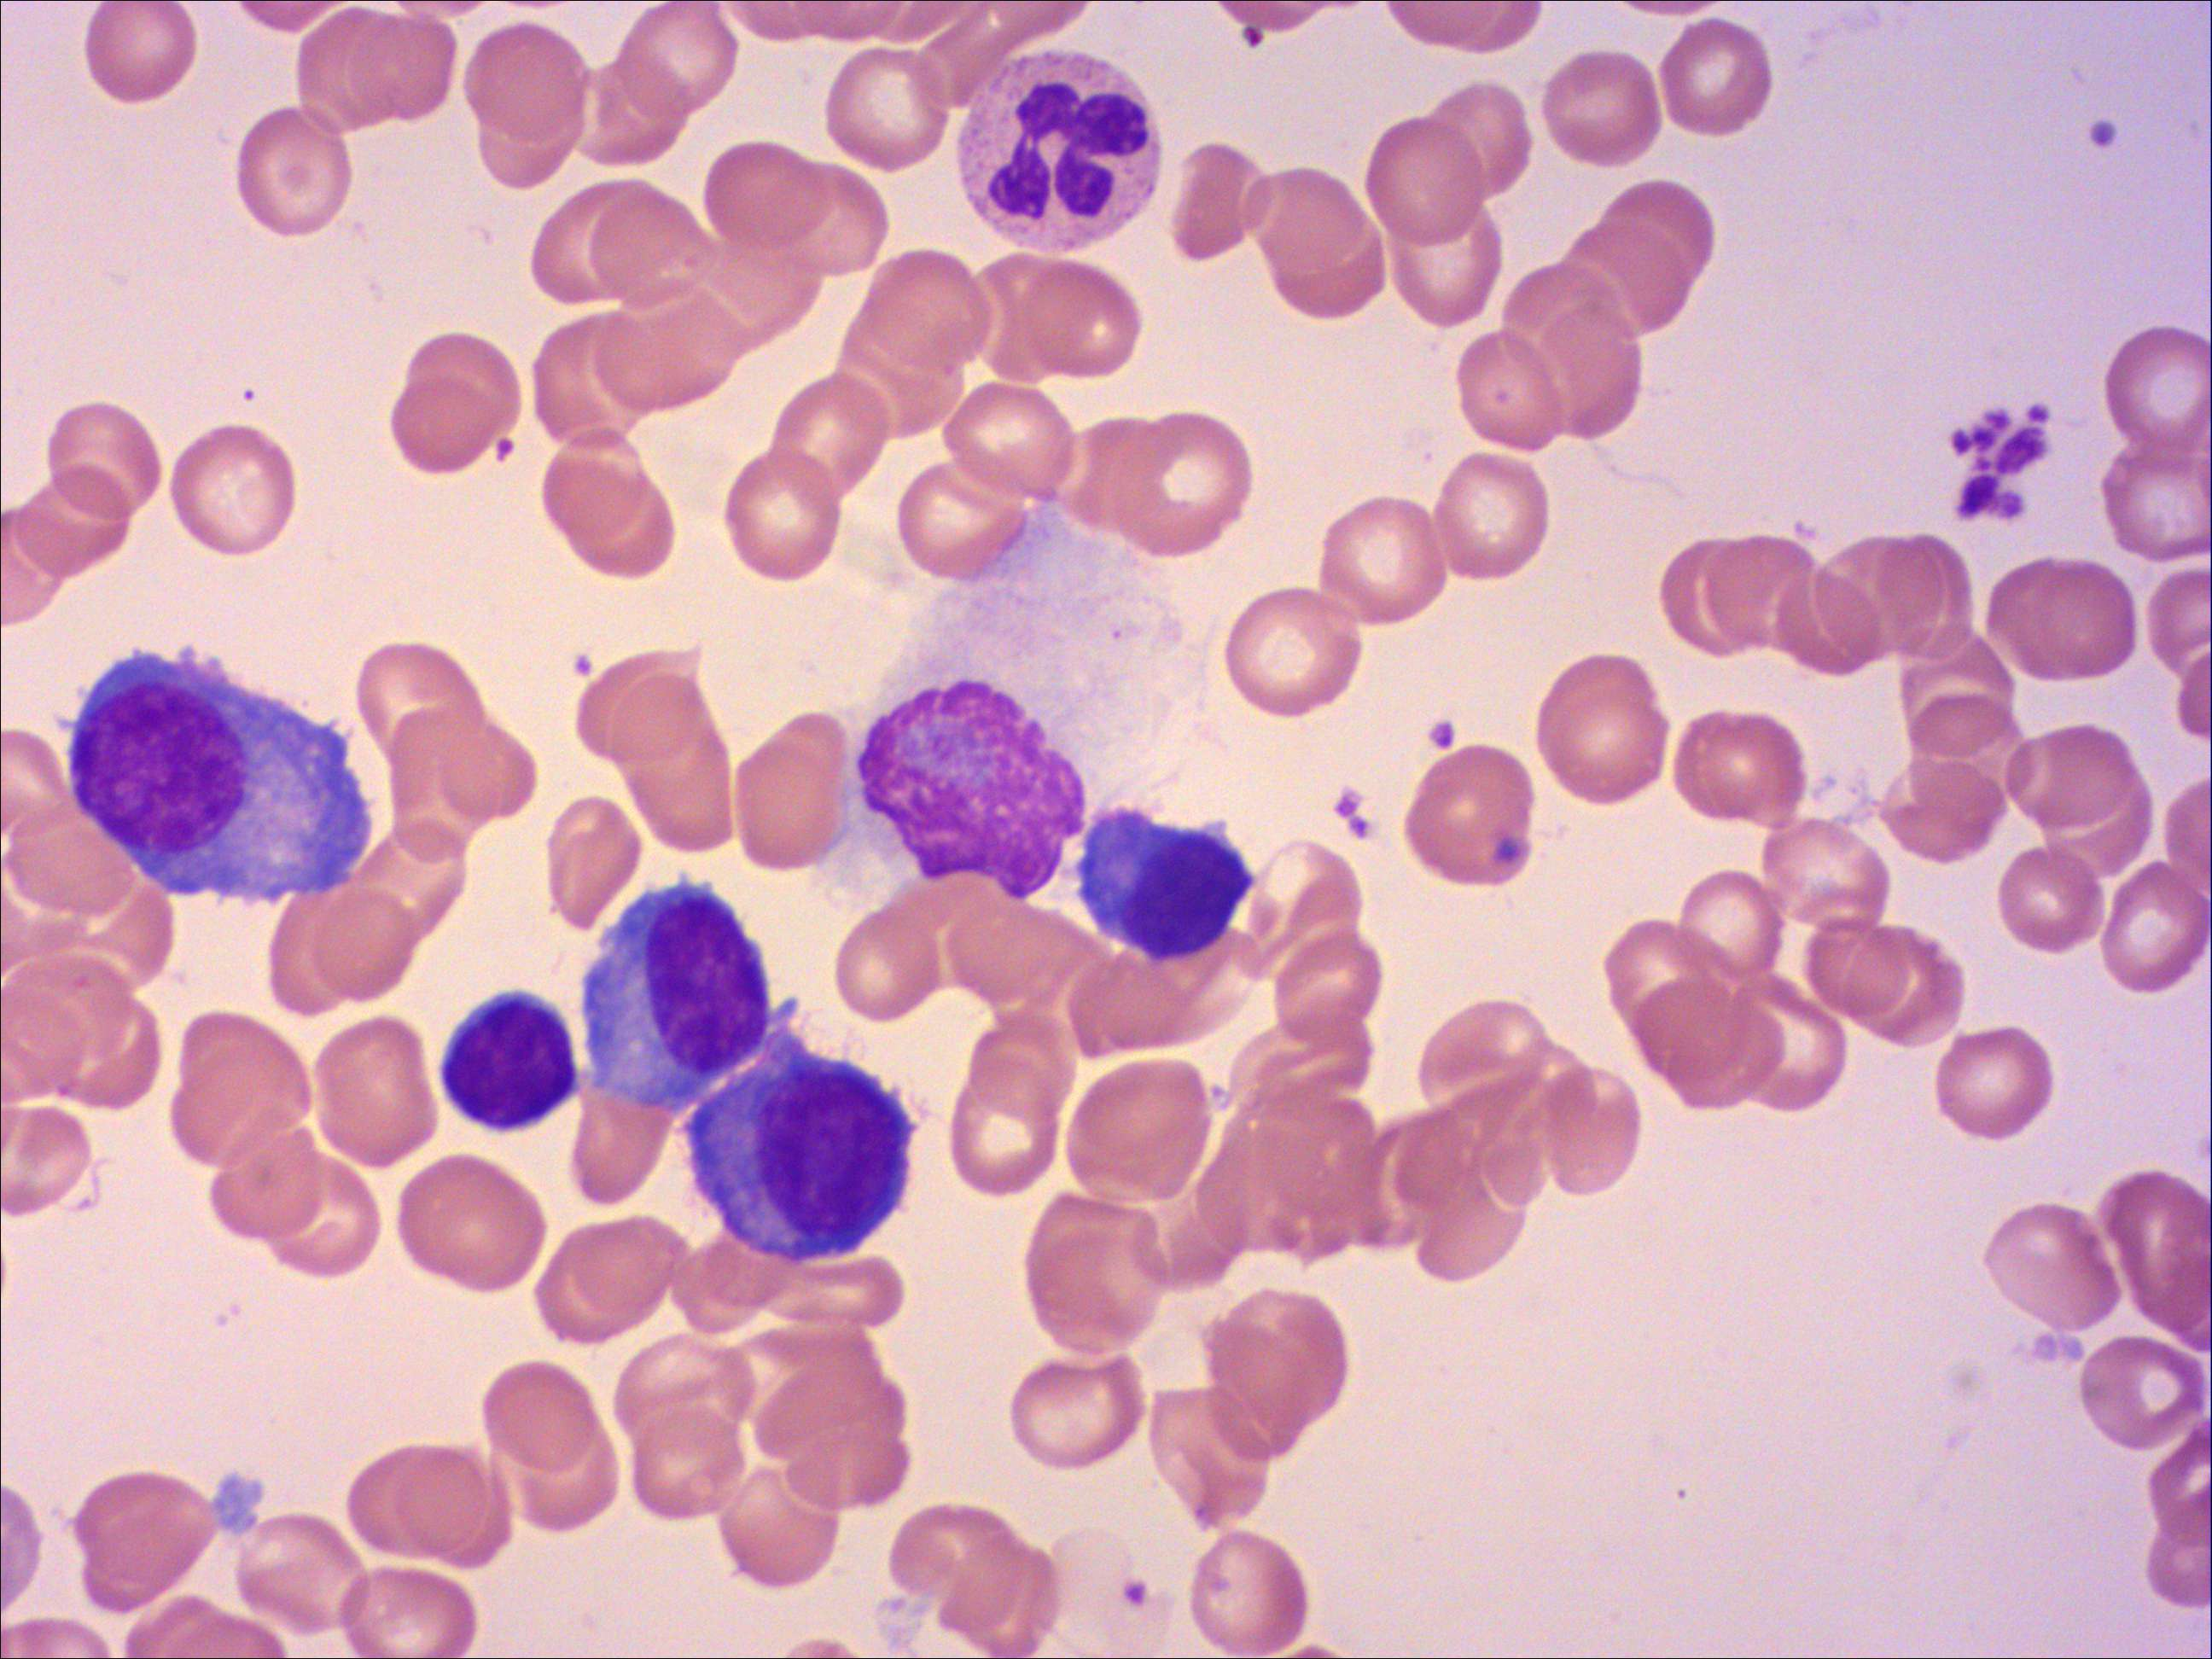32: (432, 983, 587, 1138)
51: (63, 641, 381, 913), (676, 1021, 925, 1270), (573, 866, 779, 1121), (1073, 800, 1261, 962)
6: (951, 42, 1167, 260)
x: (836, 493, 1219, 908)
